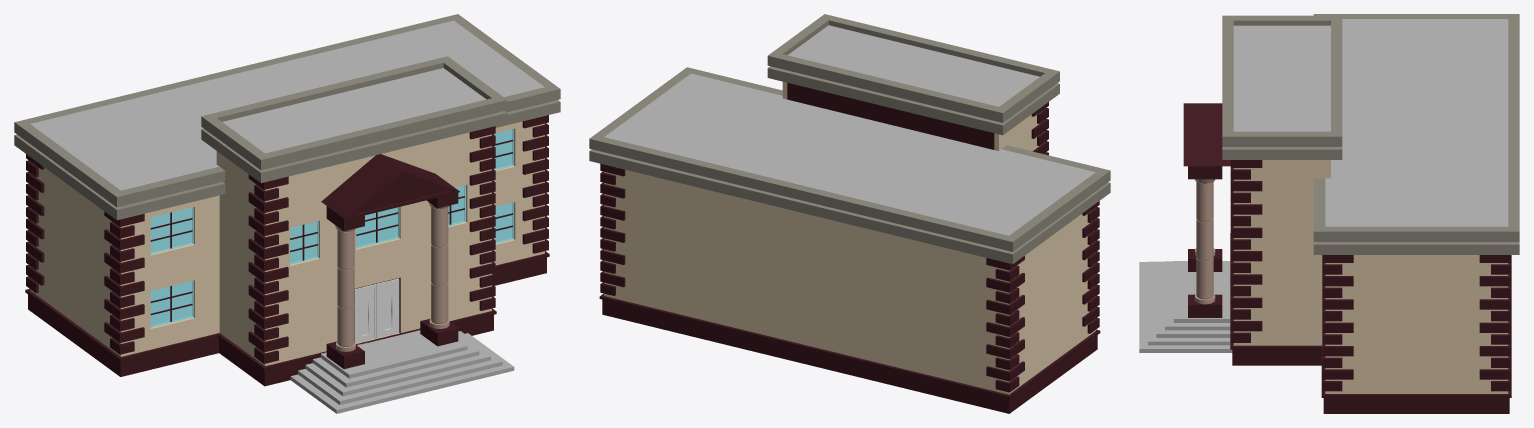
The model's file is presentRoom.fbx.
3 views of the same model, side by side, from view 1: azimuth 30°, elevation 25°; view 2: azimuth 150°, elevation 25°; view 3: azimuth 270°, elevation 25° (orthographic). The views are drawn at different scales.
Parts seen in each view (by area): view 1: Assembled Stair Stair [1706116]_[1706199], M_Door-Passage-Single-Flush 750 x 2000mm [1718610].002, M_Door-Passage-Single-Flush 750 x 2000mm [1718610].001; view 2: Assembled Stair Stair [1706116]_[1706199]; view 3: Assembled Stair Stair [1706116]_[1706199].
Boxes of the visible parts, x1,y1,x2,y2 form: Assembled Stair Stair [1706116]_[1706199]: (14,14,560,413); M_Door-Passage-Single-Flush 750 x 2000mm [1718610].002: (376,278,399,338); M_Door-Passage-Single-Flush 750 x 2000mm [1718610].001: (354,284,375,343); Assembled Stair Stair [1706116]_[1706199]: (589,14,1110,413); Assembled Stair Stair [1706116]_[1706199]: (1139,14,1519,413).
Size of the model in its own units: 1800 by 900 by 1330.
